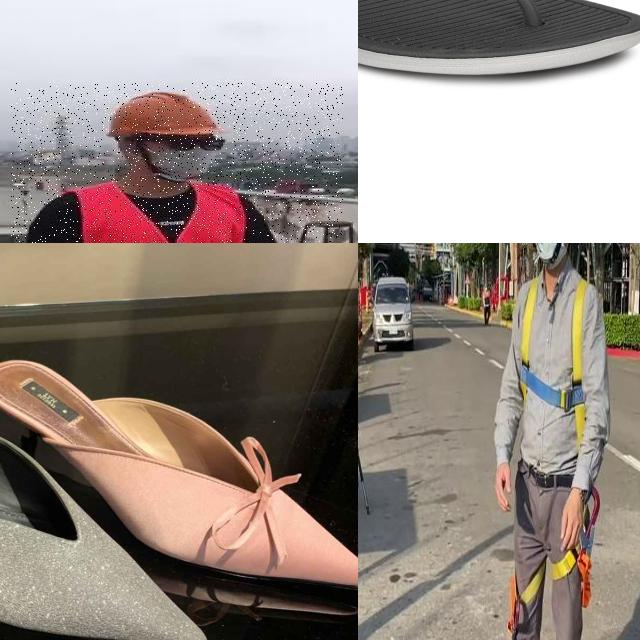Harness: (508, 488, 601, 637), (521, 278, 589, 448)
Sandals: (0, 330, 358, 633), (0, 364, 221, 640), (358, 0, 640, 78)
head_helmet: (95, 86, 223, 138)
person: (11, 82, 343, 243)
vest: (65, 184, 239, 243)
